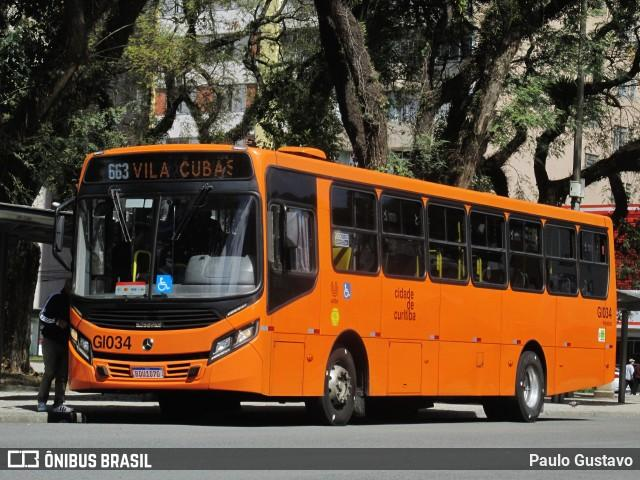VILA CUBAS: (129, 156, 241, 183)
